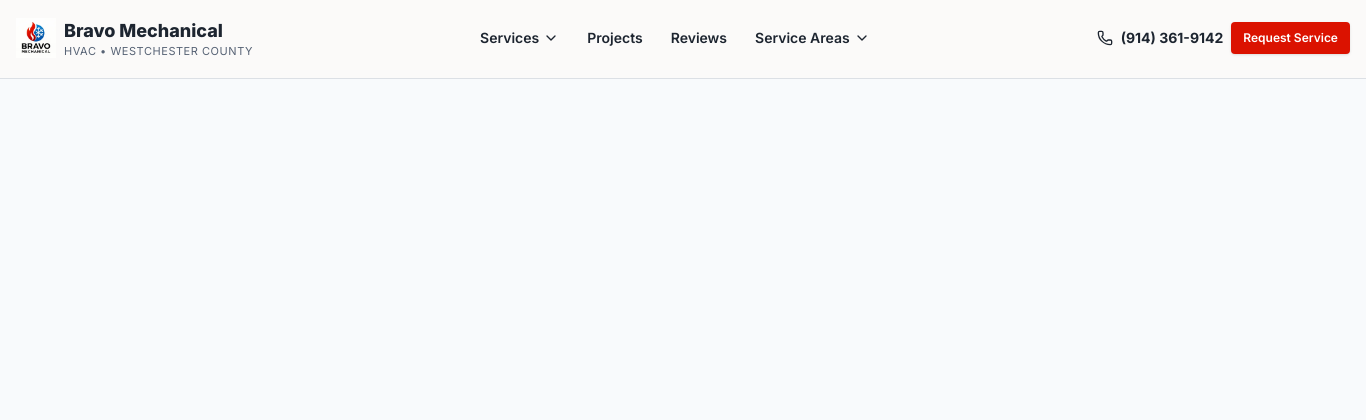
Test case: frontend remediation navigation shell › links every service and coverage dropdown item and dismisses each menu on selection
Click the button "Services": (520, 38) [468,20,571,56]
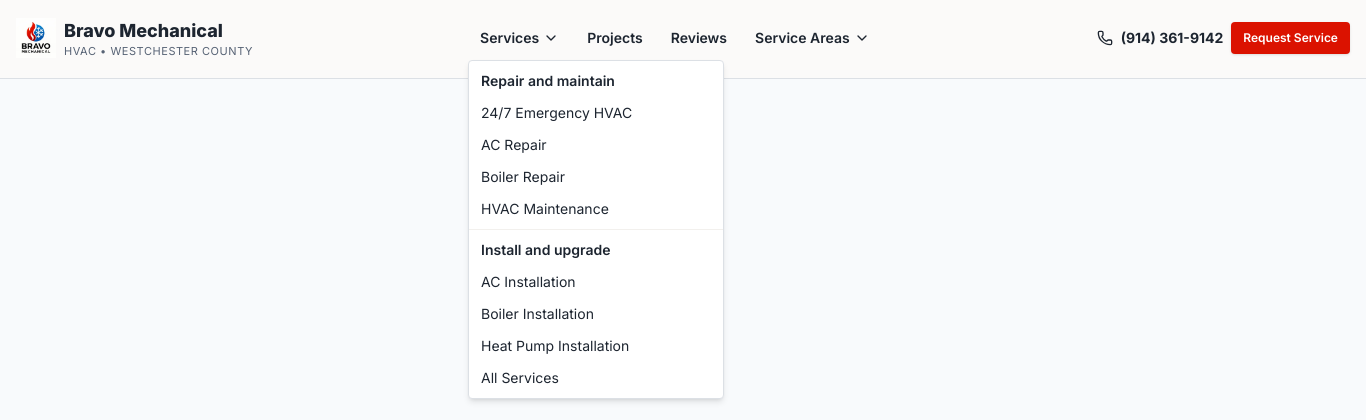
Click the menu item "AC Repair": (514, 144) [481,136,546,153]
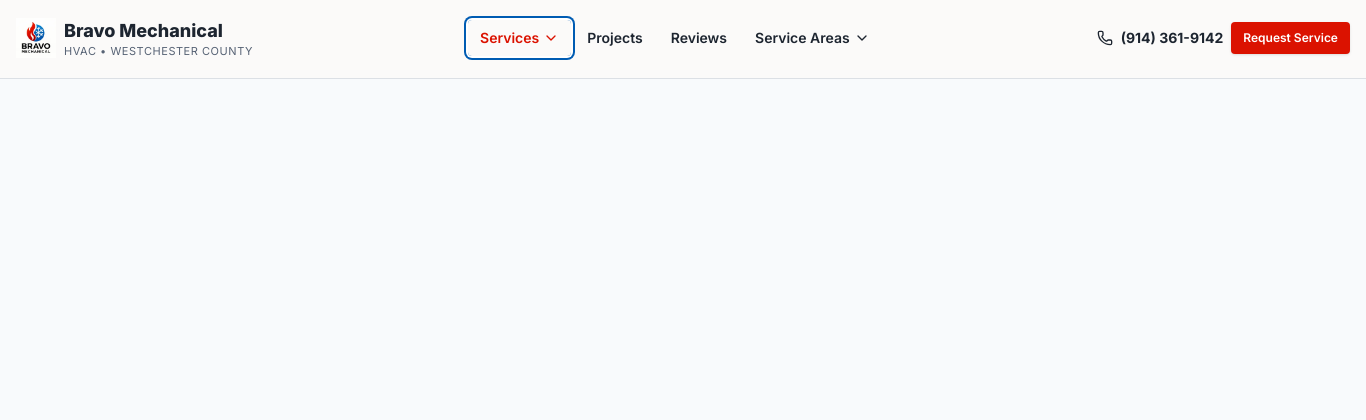
Now the menu is gone
Click the button "Service Areas": (812, 38) [743,20,882,56]
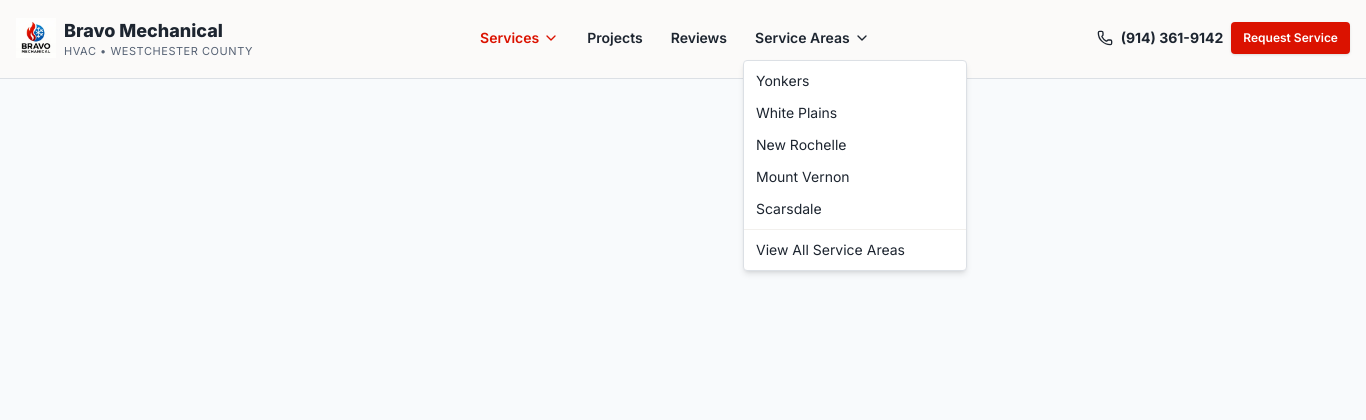
Click the menu item "White Plains": (797, 112) [756,104,837,121]
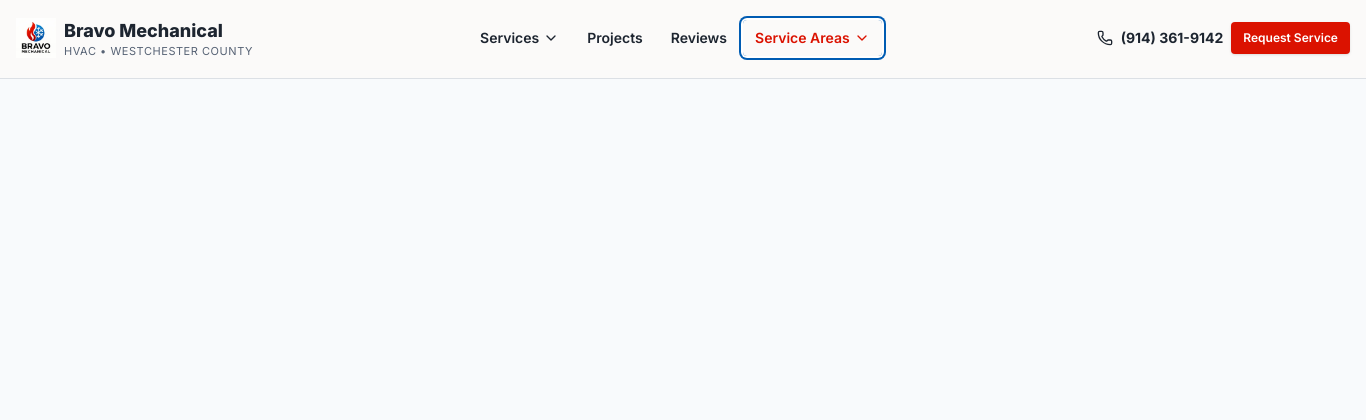
Now the menu is gone
